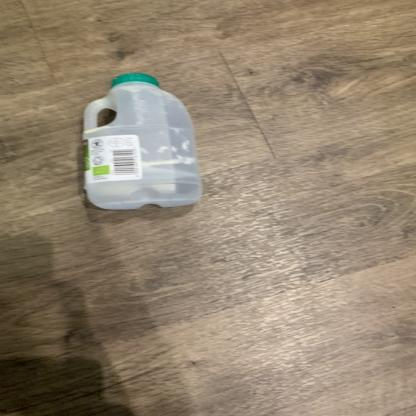trash: (78, 74, 203, 212)
